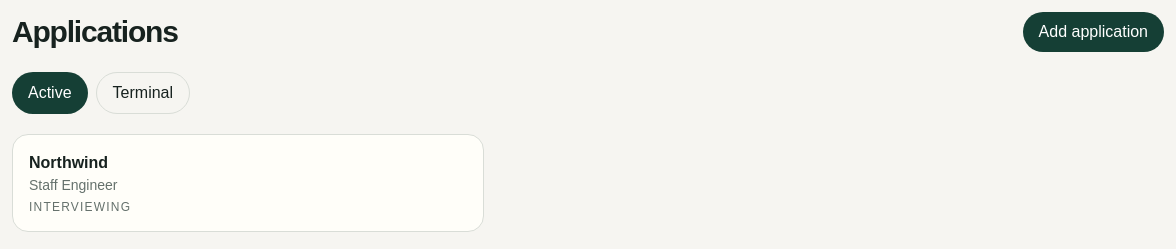
Test: ApplicationsView › filters the list to active applications by default and shows terminal ones only on request
The width and height of the screenshot is (1176, 249).
Expected: the text "Northwind" is shown, [29, 154, 108, 171]
Expected: the text "Acme" is not shown
What coordinates should you click on to do the following:
click the button "Terminal"
I would click on:
 (143, 93)
Its box is [96, 72, 190, 114].
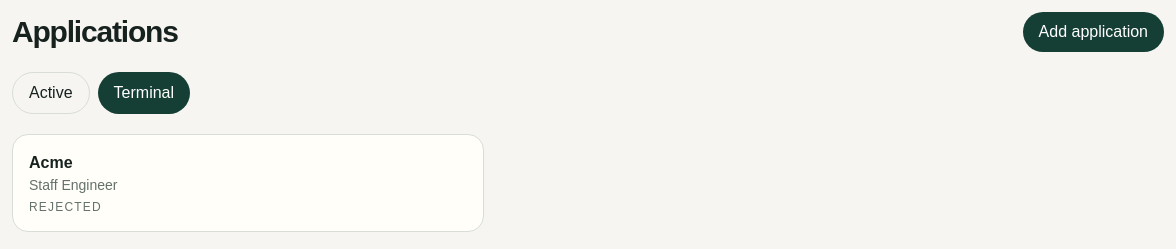
Now the button "Northwind" is gone
Now the text "Acme" is shown, box [29, 154, 73, 171]
